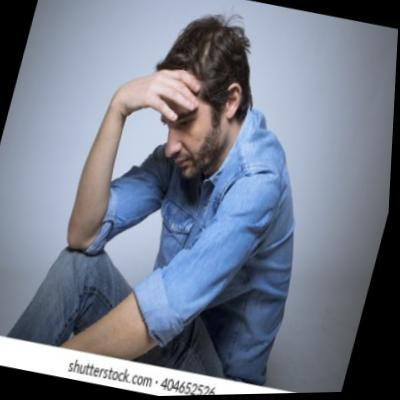sad: (147, 85, 229, 186)
